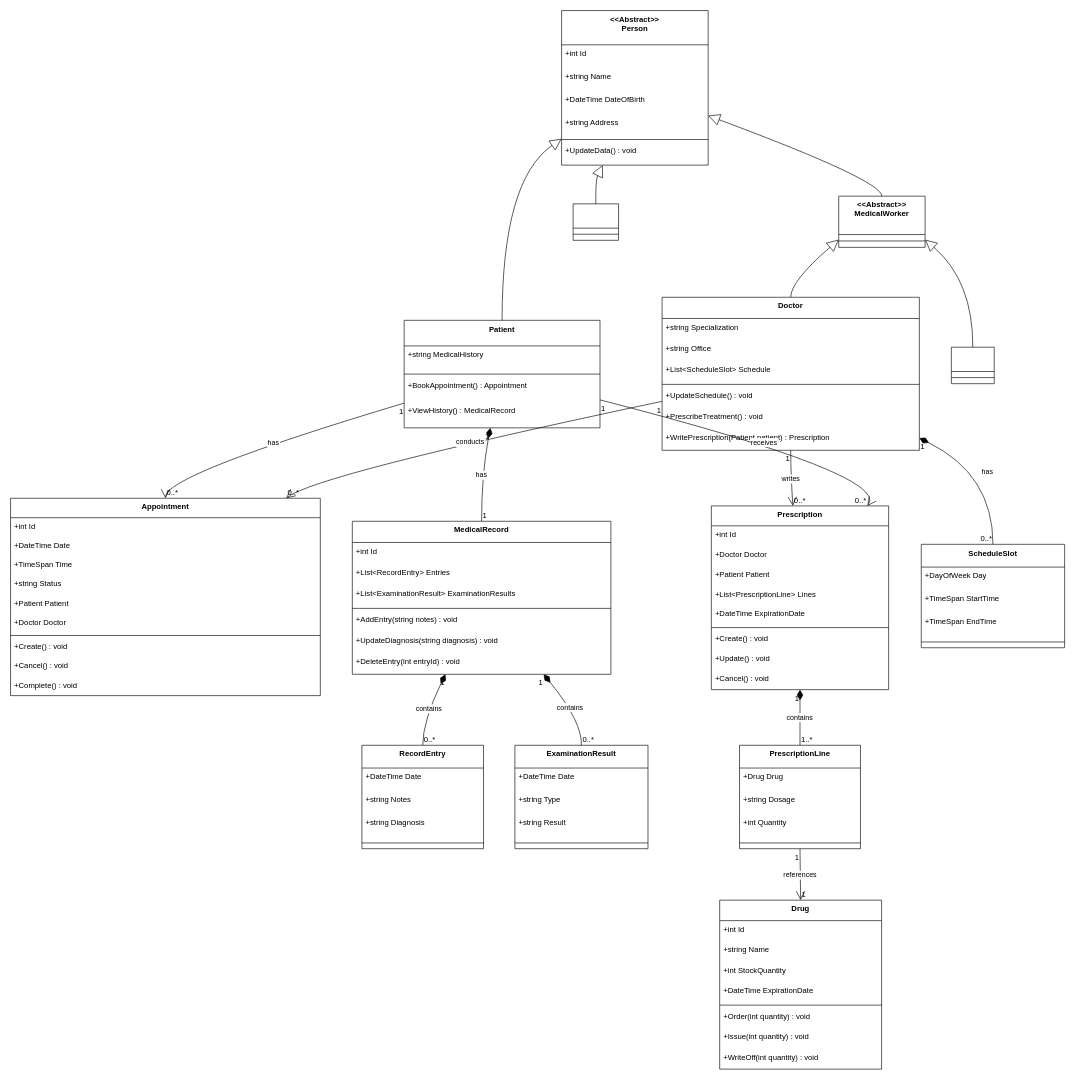
This 1075x1080 diagram has some shape labels left out. Each missing label, with the centre of its shape:
"Admin" goes at pixel 595 221.
"Nurse" goes at pixel 972 365.
